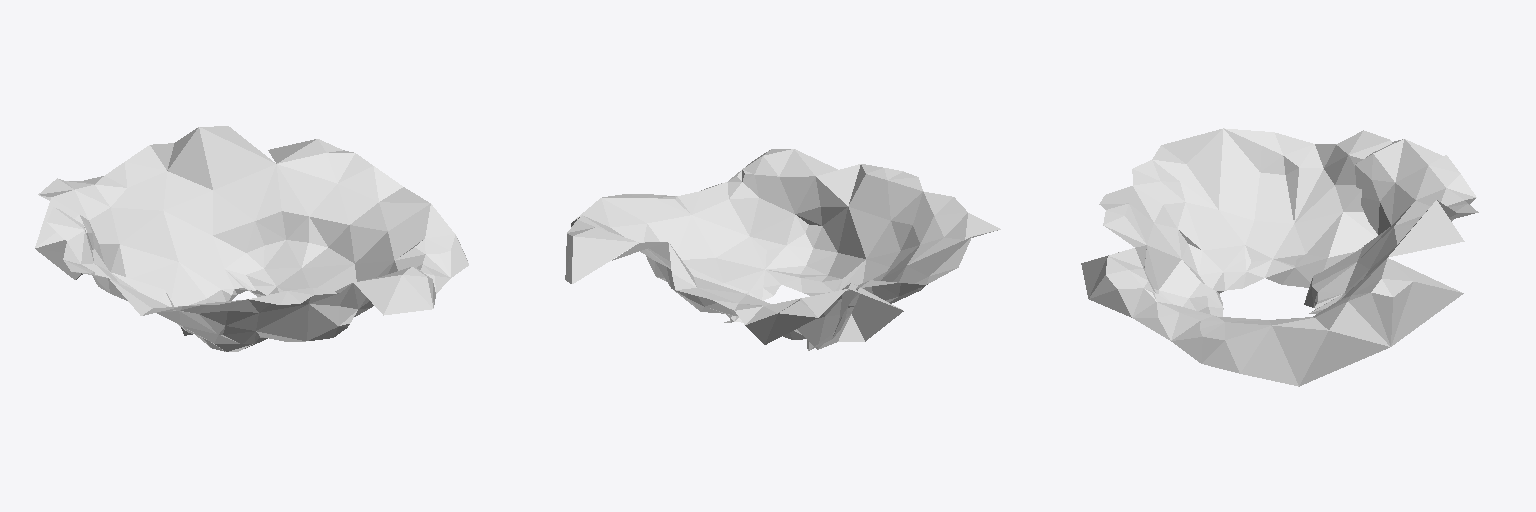
The model's file is Cloud.001.obj.
3 views of the same model, side by side, from view 1: azimuth 30°, elevation 25°; view 2: azimuth 150°, elevation 25°; view 3: azimuth 270°, elevation 25° (orthographic).
Parts seen in each view (by area): view 1: Cloud.001; view 2: Cloud.001; view 3: Cloud.001.
Part boxes in pixels (x1,y1,x2,y2): Cloud.001: (35, 126, 468, 351); Cloud.001: (565, 149, 1000, 350); Cloud.001: (1081, 128, 1478, 386).
Size of the model in its own units: 47.5 by 16.12 by 43.58.